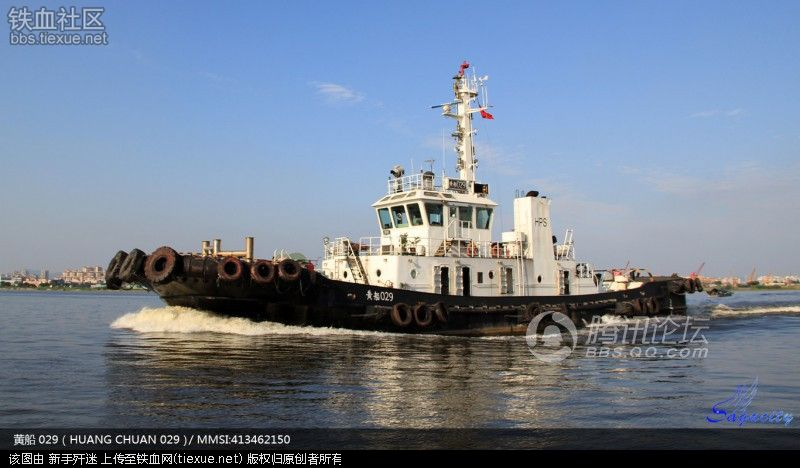otherboat: (94, 62, 700, 337)
